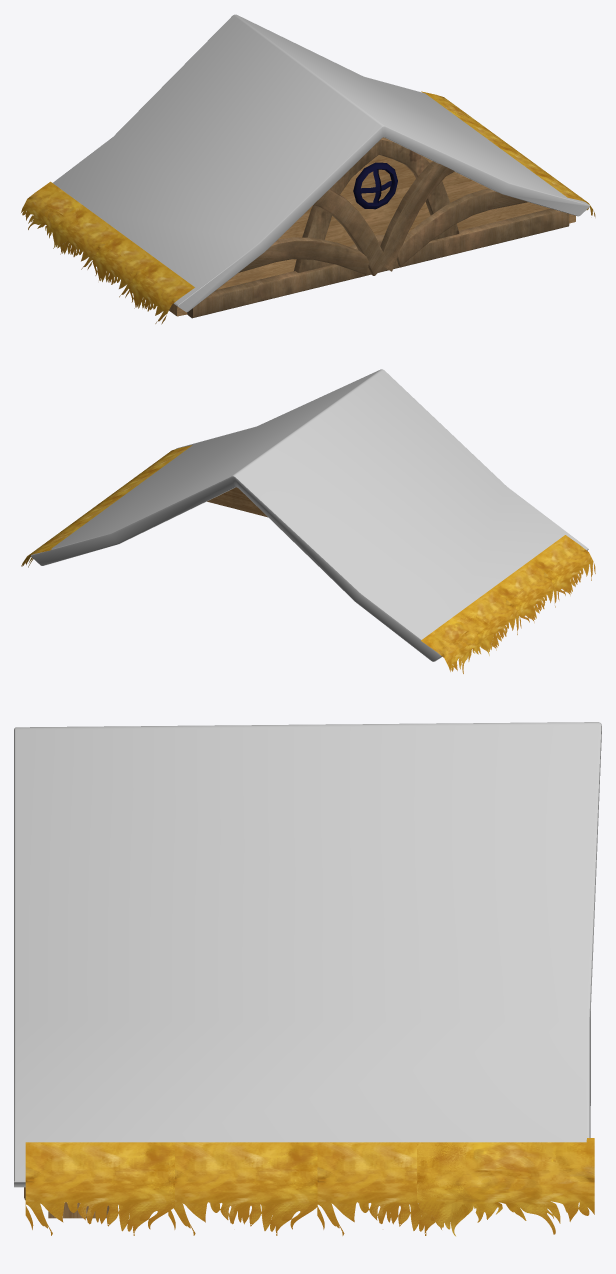
The model's file is SM_roof_extension_01.fbx.
3 views of the same model, one above another, from view 1: azimuth 30°, elevation 25°; view 2: azimuth 150°, elevation 25°; view 3: azimuth 270°, elevation 25° (orthographic). The views are drawn at different scales.
Parts seen in each view (by area): view 1: roof_extension_01; view 2: roof_extension_01; view 3: roof_extension_01.
Part boxes in pixels (left/top/right/bottom): roof_extension_01: left=21, top=14, right=595, bottom=324; roof_extension_01: left=21, top=369, right=595, bottom=673; roof_extension_01: left=14, top=722, right=601, bottom=1236.
Bounding box in the file's own units: 386 × 137 × 226.
